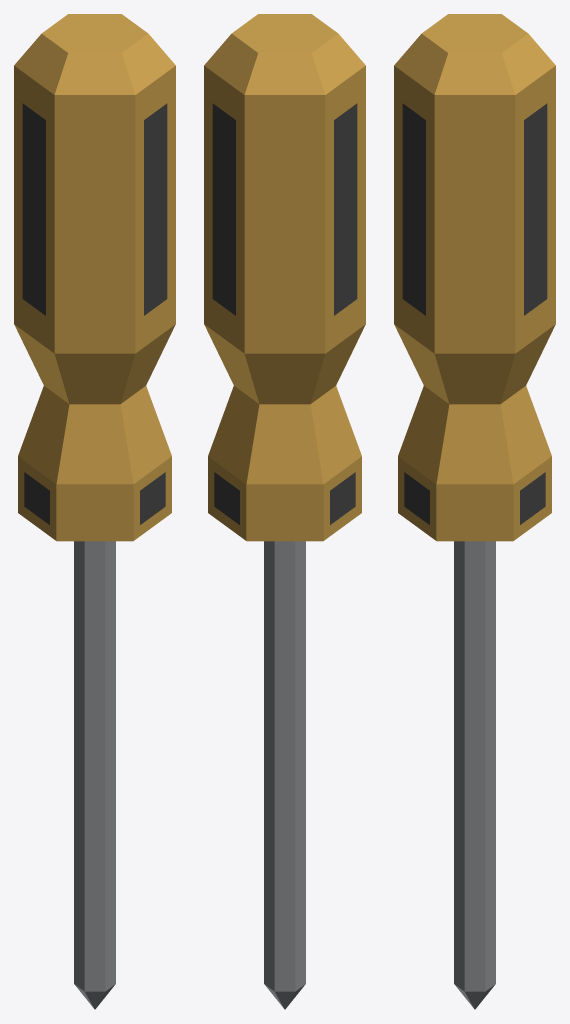
The model's file is SM_Item_Screwdriver_01.fbx.
3 renders of one model, left to right at view 1: azimuth 30°, elevation 25°; view 2: azimuth 150°, elevation 25°; view 3: azimuth 270°, elevation 25°, orthographic.
Parts seen in each view (by area): view 1: SM_Item_Screwdriver_01; view 2: SM_Item_Screwdriver_01; view 3: SM_Item_Screwdriver_01.
Boxes of the visible parts, x1,y1,x2,y2 form: SM_Item_Screwdriver_01: (14, 14, 175, 1009); SM_Item_Screwdriver_01: (204, 14, 365, 1009); SM_Item_Screwdriver_01: (394, 14, 555, 1009).
Bounding box in the file's own units: 6.18 × 47.52 × 7.14.
